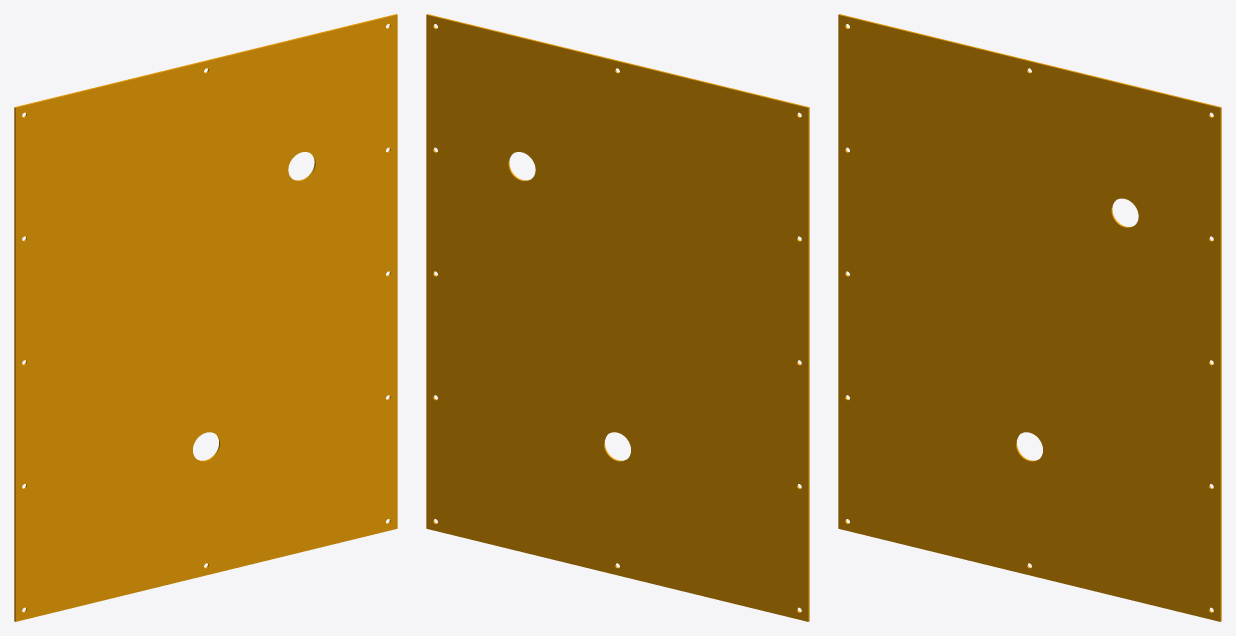
The model's file is shell_top.glb.
The picture shows the model from 3 angles, left to right: view 1: azimuth 30°, elevation 25°; view 2: azimuth 150°, elevation 25°; view 3: azimuth 330°, elevation 25°; orthographic projection.
Parts seen in each view (by area): view 1: top_panel-diff-diff-diff; view 2: top_panel-diff-diff-diff; view 3: top_panel-diff-diff-diff.
Part boxes in pixels (<box>): top_panel-diff-diff-diff: <box>14,14,397,621</box>; top_panel-diff-diff-diff: <box>426,14,809,621</box>; top_panel-diff-diff-diff: <box>838,14,1221,621</box>.
Size of the model in its own units: 420 by 540 by 2.
